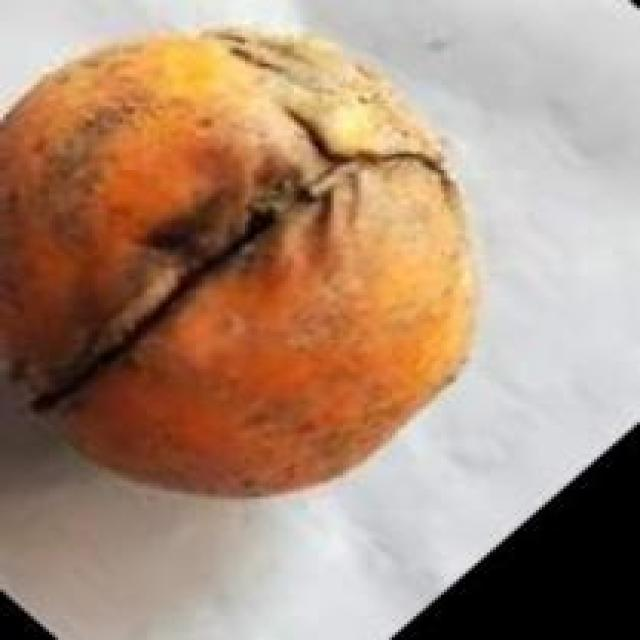damaged: (0, 27, 487, 497)
